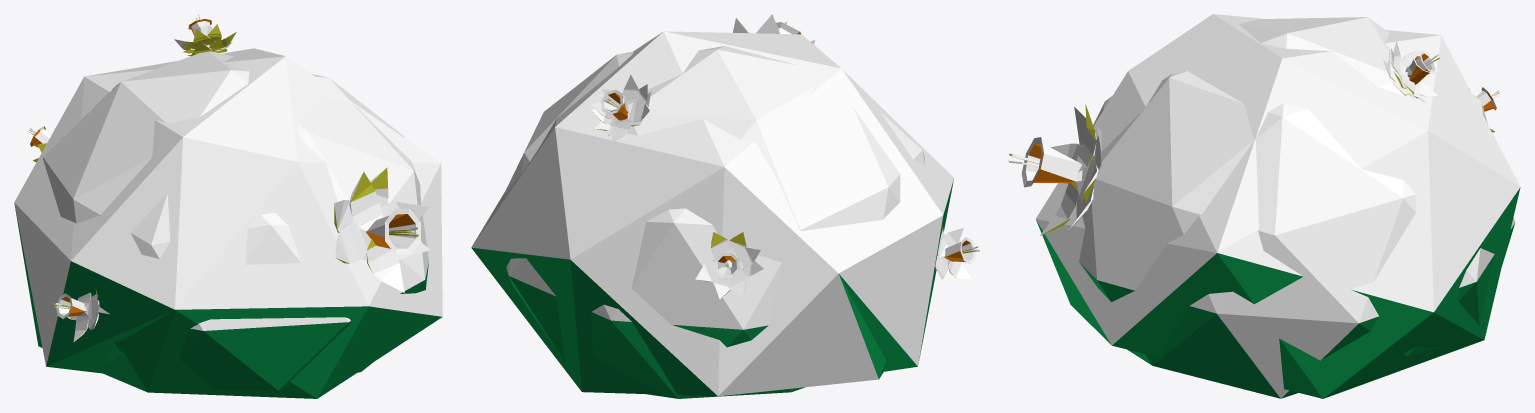
File: Bush_13_Snowy.fbx
The picture shows the model from 3 angles, left to right: view 1: azimuth 30°, elevation 25°; view 2: azimuth 150°, elevation 25°; view 3: azimuth 270°, elevation 25°; orthographic projection. The views are drawn at different scales.
Visible parts, largest first — view 1: Bush 13_LOD2_Snowy, Bush 13_LOD0_Snowy, Bush 13_LOD3_Snowy, Bush 13_LOD1_Snowy; view 2: Bush 13_LOD2_Snowy, Bush 13_LOD0_Snowy, Bush 13_LOD3_Snowy, Bush 13_LOD1_Snowy; view 3: Bush 13_LOD2_Snowy, Bush 13_LOD0_Snowy, Bush 13_LOD1_Snowy, Bush 13_LOD3_Snowy.
Boxes of the visible parts, bbox=[...] form: Bush 13_LOD2_Snowy: bbox=[14, 21, 442, 398]; Bush 13_LOD0_Snowy: bbox=[28, 14, 429, 390]; Bush 13_LOD3_Snowy: bbox=[14, 26, 232, 373]; Bush 13_LOD1_Snowy: bbox=[30, 19, 418, 342]; Bush 13_LOD2_Snowy: bbox=[471, 23, 978, 396]; Bush 13_LOD0_Snowy: bbox=[502, 14, 979, 398]; Bush 13_LOD3_Snowy: bbox=[591, 92, 960, 371]; Bush 13_LOD1_Snowy: bbox=[591, 22, 972, 299]; Bush 13_LOD2_Snowy: bbox=[1010, 14, 1520, 398]; Bush 13_LOD0_Snowy: bbox=[1008, 17, 1515, 398]; Bush 13_LOD1_Snowy: bbox=[1008, 41, 1494, 218]; Bush 13_LOD3_Snowy: bbox=[1383, 51, 1432, 100].
Bounding box in the file's own units: 70.01 × 45.72 × 72.86.
